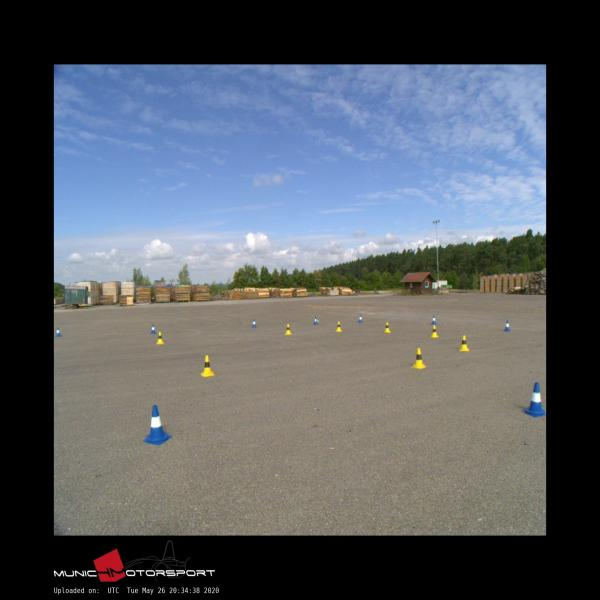blue_cone: (143, 405, 171, 443), (522, 382, 546, 417), (504, 320, 511, 330), (150, 325, 157, 334), (431, 315, 437, 324), (55, 327, 61, 336), (358, 314, 363, 323), (314, 316, 318, 324), (252, 319, 256, 327)
yellow_cone: (411, 347, 426, 368), (200, 355, 214, 376), (459, 335, 468, 350), (156, 332, 164, 344), (430, 325, 438, 337), (284, 323, 292, 334), (335, 321, 342, 331), (384, 321, 390, 332)
